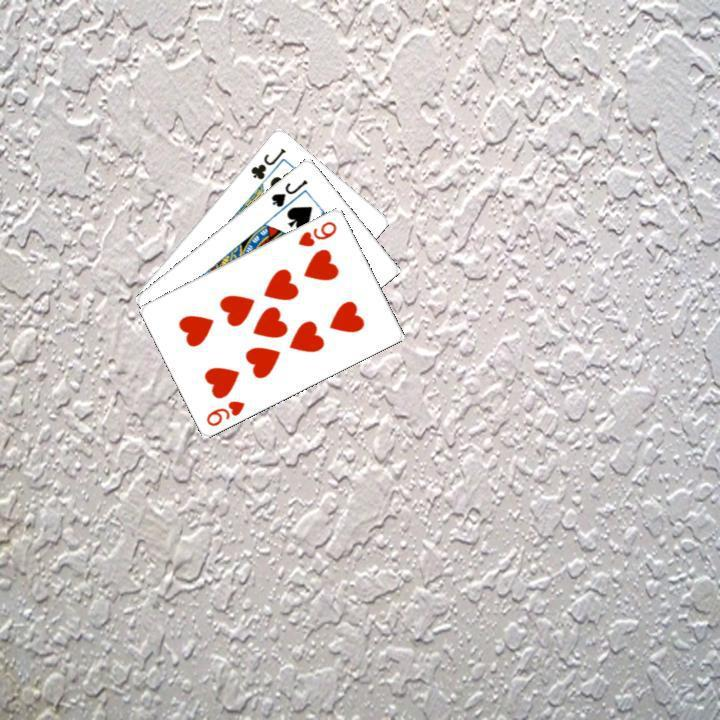9: (294, 216, 339, 248), (202, 396, 247, 428)
J: (246, 143, 288, 181), (267, 175, 310, 209)
